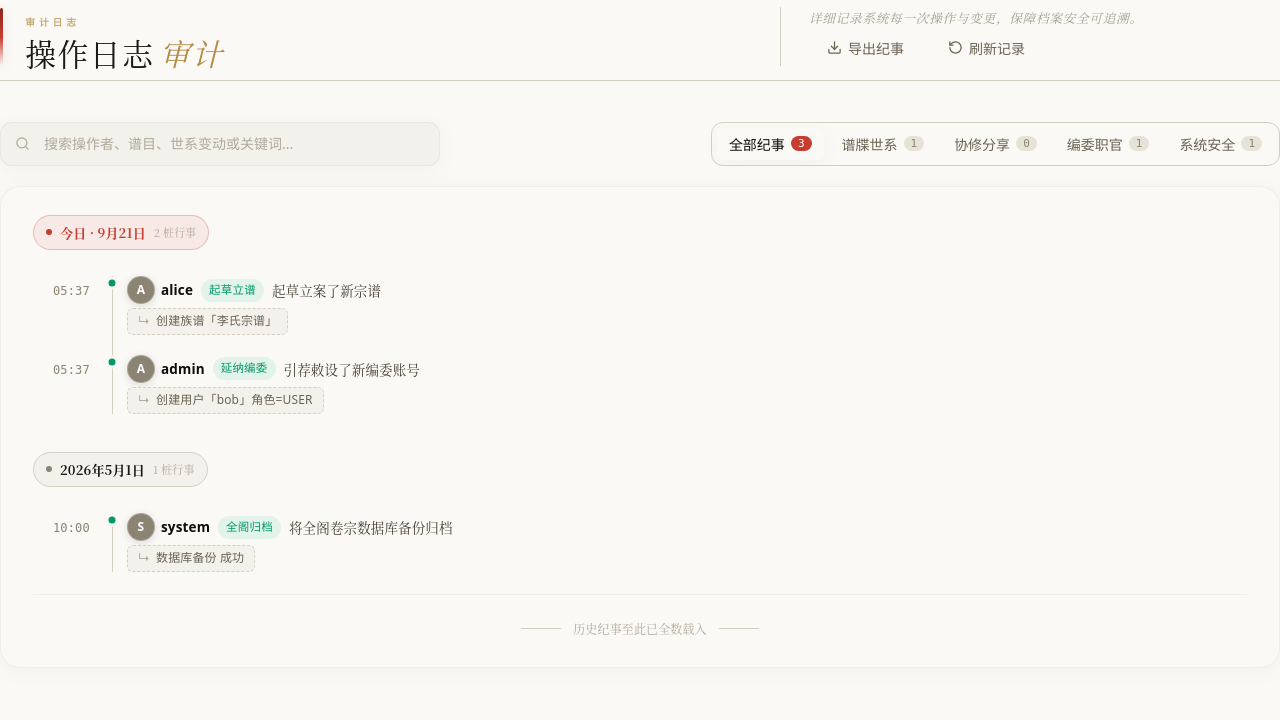
Test: AuditLogView › filters logs by category tab
The width and height of the screenshot is (1280, 720).
What coordinates should you click on to do the following:
click the button with class "glass-tab" showing "编委职官 1"
I would click on:
 (1108, 144)
Its box is [1055,128,1161,160].
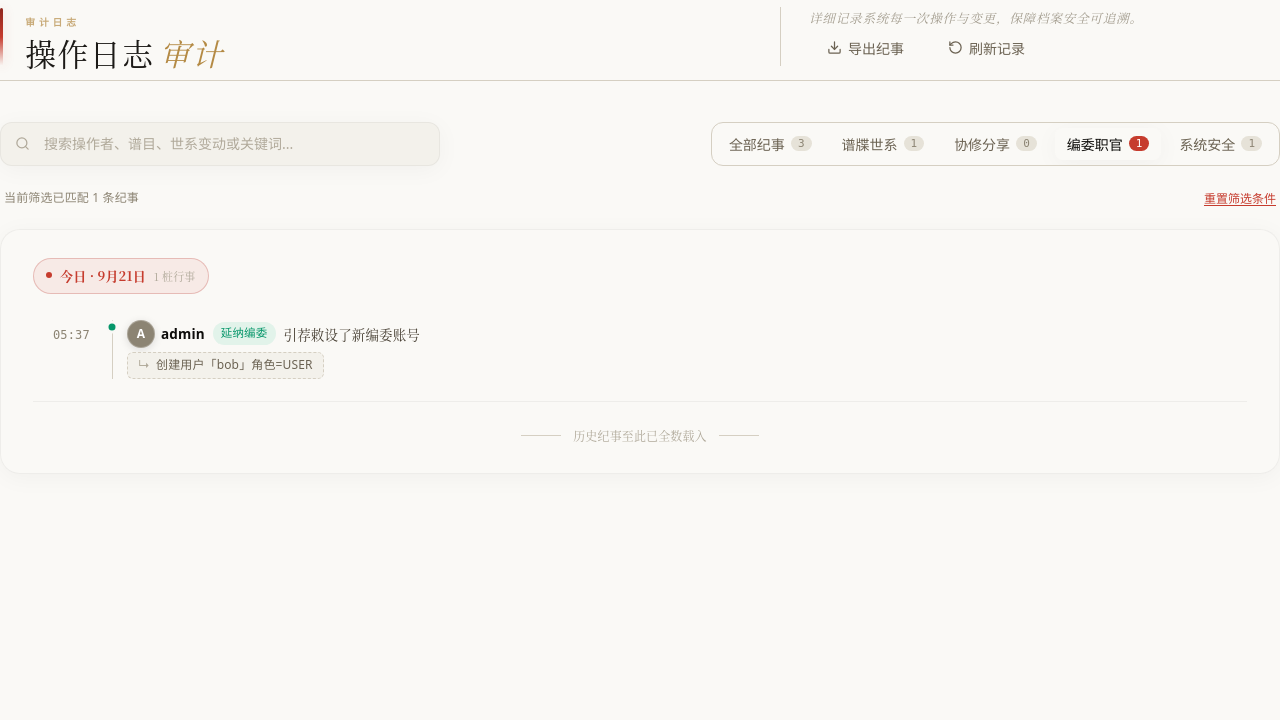
Expected: the text "延纳编委" is shown, [213,322,276,345]
Expected: the text "起草立谱" is gone
Expected: the text "全阁归档" is gone
